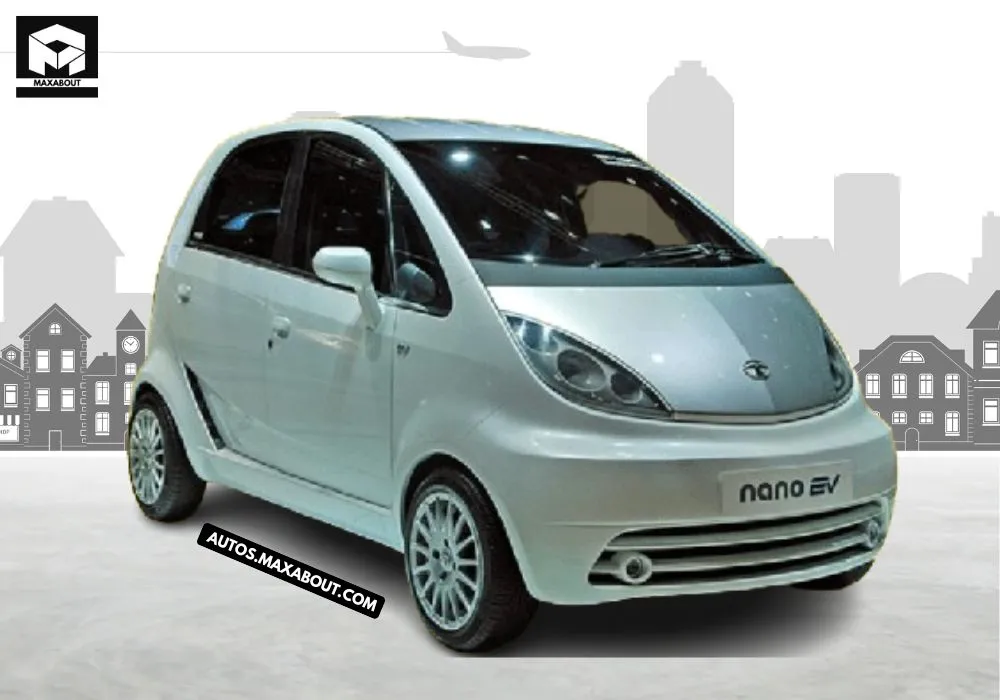Nano: (125, 105, 900, 655)
